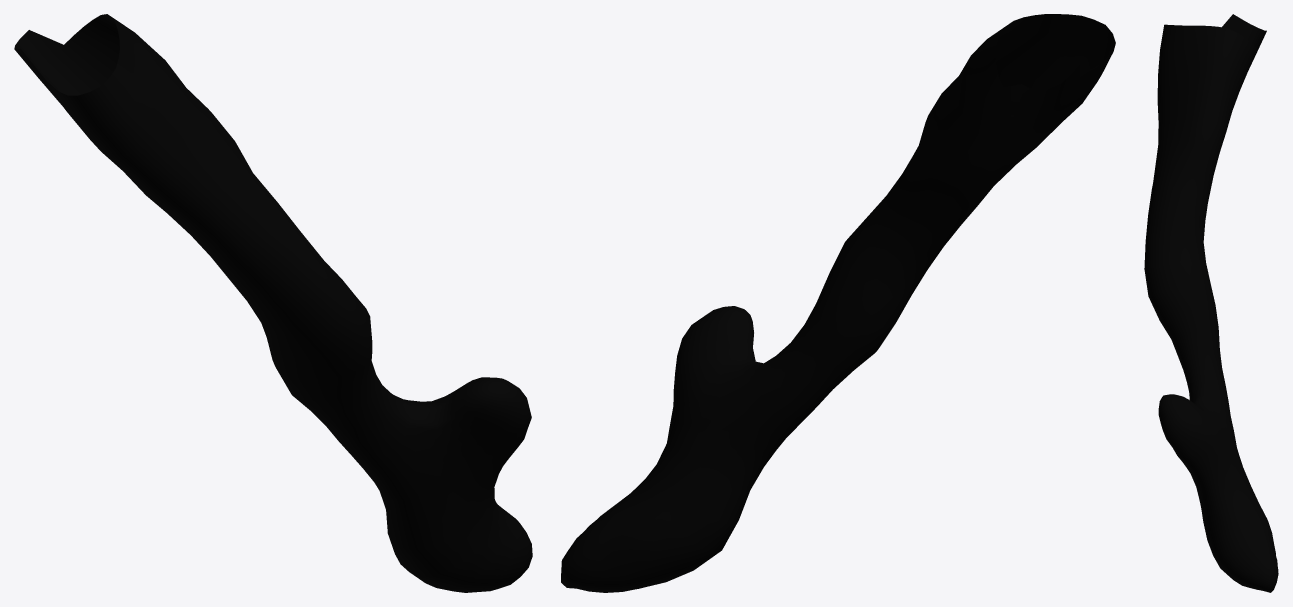
Rendered from Pie1A.obj.
3 views of the same model, side by side, from view 1: azimuth 30°, elevation 25°; view 2: azimuth 150°, elevation 25°; view 3: azimuth 270°, elevation 25° (orthographic). The views are drawn at different scales.
Parts seen in each view (by area): view 1: Pie1A; view 2: Pie1A; view 3: Pie1A.
Part boxes in pixels (<box>): Pie1A: <box>14,14,532,592</box>; Pie1A: <box>561,14,1115,592</box>; Pie1A: <box>1144,14,1278,592</box>.
Size of the model in its own units: 0.4905 by 0.6109 by 0.1714.
Materials: 1 (1 with a texture image).
